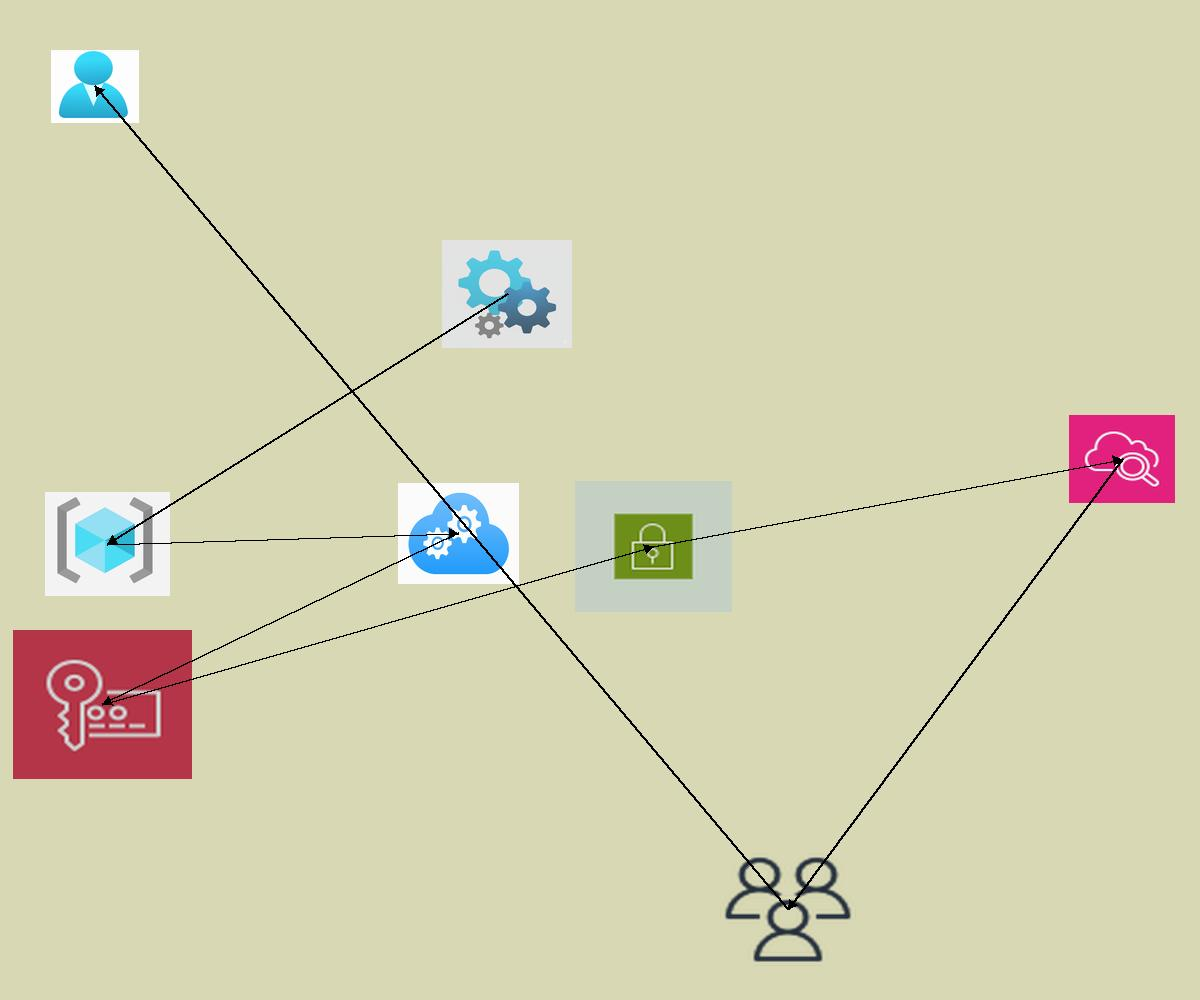AWS-CloudWatch: (1069, 415, 1175, 503)
AWS-Key-Management-Service: (13, 630, 192, 779)
AWS-Public-subnet: (575, 481, 732, 612)
AWS-Res_Users: (720, 853, 856, 966)
Azure_api: (442, 240, 572, 348)
Azure_cloud_services: (398, 483, 519, 584)
Azure_resource_group: (45, 492, 170, 596)
Azure_users: (51, 50, 139, 123)
